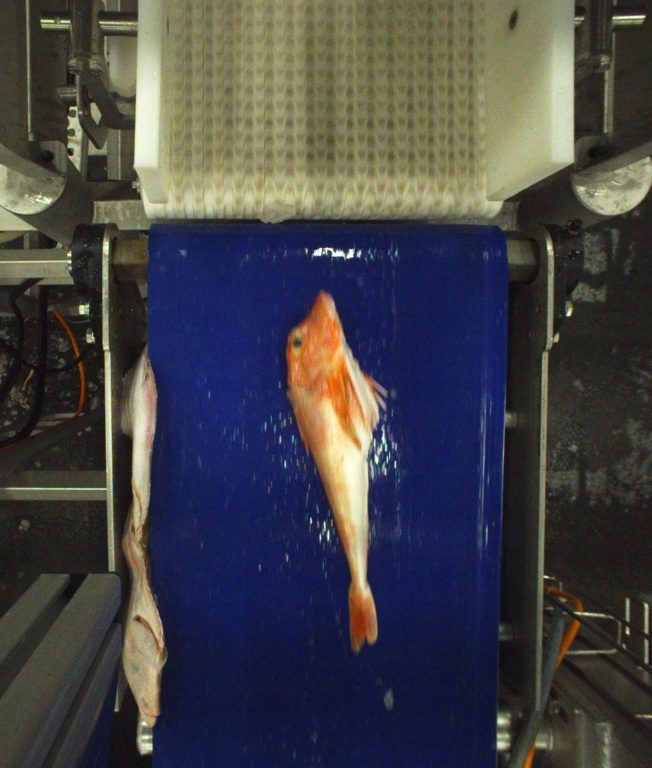GUU: (285, 288, 388, 654)
